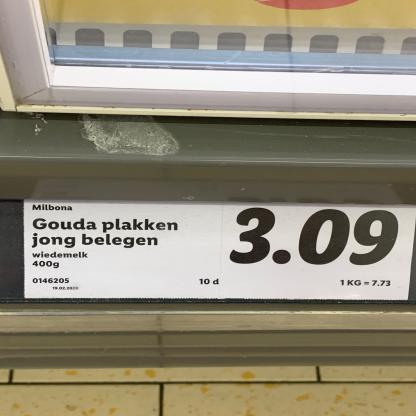prtg: (24, 201, 416, 301)
